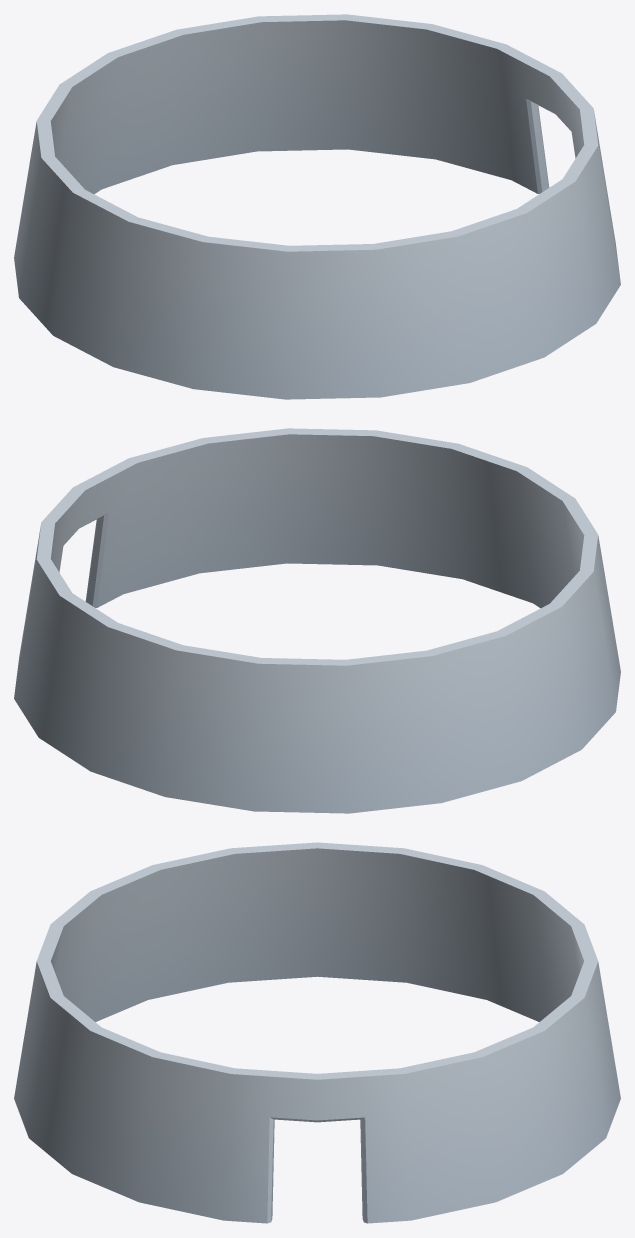
The model's file is Ruin2.fbx.
3 views of the same model, one above another, from view 1: azimuth 30°, elevation 25°; view 2: azimuth 150°, elevation 25°; view 3: azimuth 270°, elevation 25° (orthographic).
Parts seen in each view (by area): view 1: pPipe1; view 2: pPipe1; view 3: pPipe1.
Part boxes in pixels (<box>): pPipe1: <box>14,14,620,399</box>; pPipe1: <box>14,428,620,813</box>; pPipe1: <box>14,842,620,1223</box>.
Bounding box in the file's own units: 1974 × 500 × 2000.
